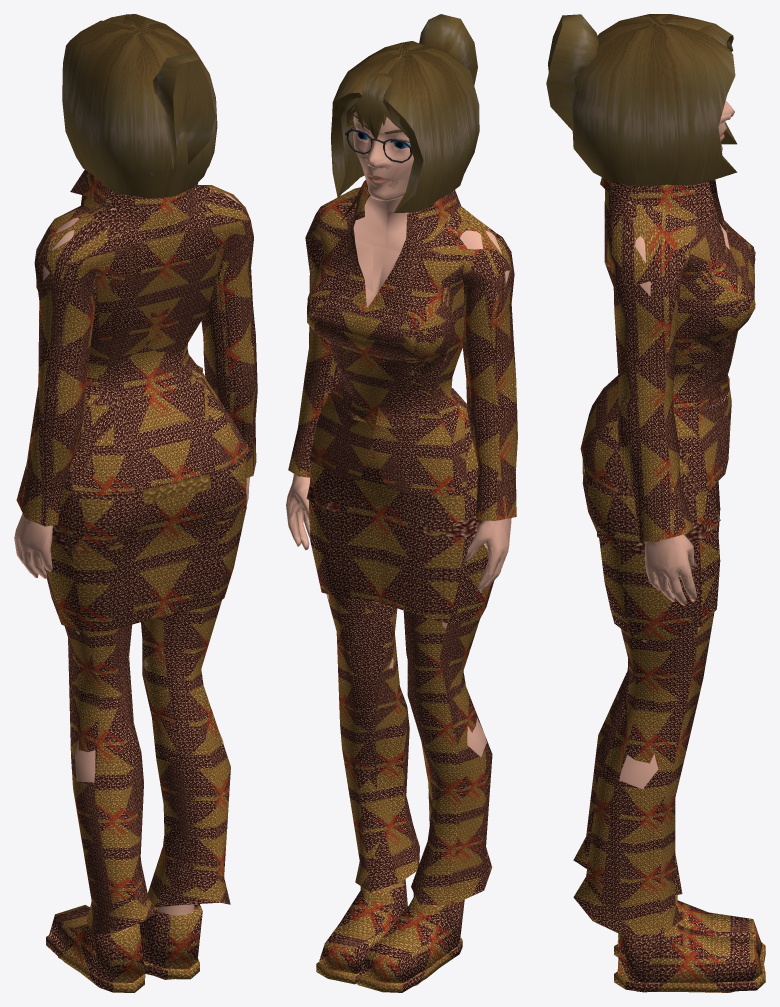
Rendered from female.gltf.
3 renders of one model, left to right at view 1: azimuth 30°, elevation 25°; view 2: azimuth 150°, elevation 25°; view 3: azimuth 270°, elevation 25°, orthographic. The views are drawn at different scales.
Parts seen in each view (by area): view 1: shirt, pants, skirt, HairPart, Lshoe, HairExotic, TankTop, Rshoe, shorts, SkinFullNude, SkinTankTop, SkinShirt (+1 smaller); view 2: shirt, pants, skirt, HairPart, Lshoe, TankTop, Rshoe, SkinFullNude, SkinTorsoNude, FaceB, SkinTankTop, HairExotic (+4 smaller); view 3: shirt, pants, HairPart, skirt, Rshoe, HairExotic, TankTop, Lshoe, SkinTankTop, SkinFullNude, SkinTorsoNude, SkinShirt (+1 smaller).
Part boxes in pixels (bbox=[...]): shirt: bbox=[16, 170, 257, 526]; pants: bbox=[64, 491, 230, 934]; skirt: bbox=[44, 419, 246, 632]; HairPart: bbox=[62, 14, 217, 198]; Lshoe: bbox=[46, 905, 145, 992]; HairExotic: bbox=[153, 52, 215, 170]; TankTop: bbox=[36, 213, 222, 405]; Rshoe: bbox=[139, 904, 202, 979]; shorts: bbox=[52, 473, 246, 551]; SkinFullNude: bbox=[14, 188, 249, 967]; SkinTankTop: bbox=[14, 188, 249, 578]; SkinShirt: bbox=[14, 478, 249, 577]; shirt: bbox=[288, 182, 517, 520]; pants: bbox=[327, 594, 492, 905]; skirt: bbox=[308, 417, 493, 623]; HairPart: bbox=[331, 41, 479, 212]; Lshoe: bbox=[357, 893, 464, 992]; TankTop: bbox=[307, 220, 469, 428]; Rshoe: bbox=[316, 879, 407, 984]; SkinFullNude: bbox=[286, 196, 510, 888]; SkinTorsoNude: bbox=[286, 197, 510, 590]; FaceB: bbox=[354, 117, 412, 201]; SkinTankTop: bbox=[286, 197, 511, 592]; HairExotic: bbox=[343, 14, 477, 137]; shirt: bbox=[580, 177, 755, 541]; pants: bbox=[573, 612, 714, 935]; HairPart: bbox=[571, 14, 737, 186]; skirt: bbox=[582, 436, 720, 640]; Rshoe: bbox=[614, 923, 765, 992]; HairExotic: bbox=[546, 14, 733, 130]; TankTop: bbox=[610, 237, 755, 409]; Lshoe: bbox=[614, 895, 765, 962]; SkinTankTop: bbox=[628, 201, 697, 605]; SkinFullNude: bbox=[619, 202, 729, 789]; SkinTorsoNude: bbox=[635, 236, 697, 601]; SkinShirt: bbox=[645, 223, 728, 603].
Size of the model in its own units: 0.5927 by 2.31 by 0.4845.
21 materials, 20 textured.
